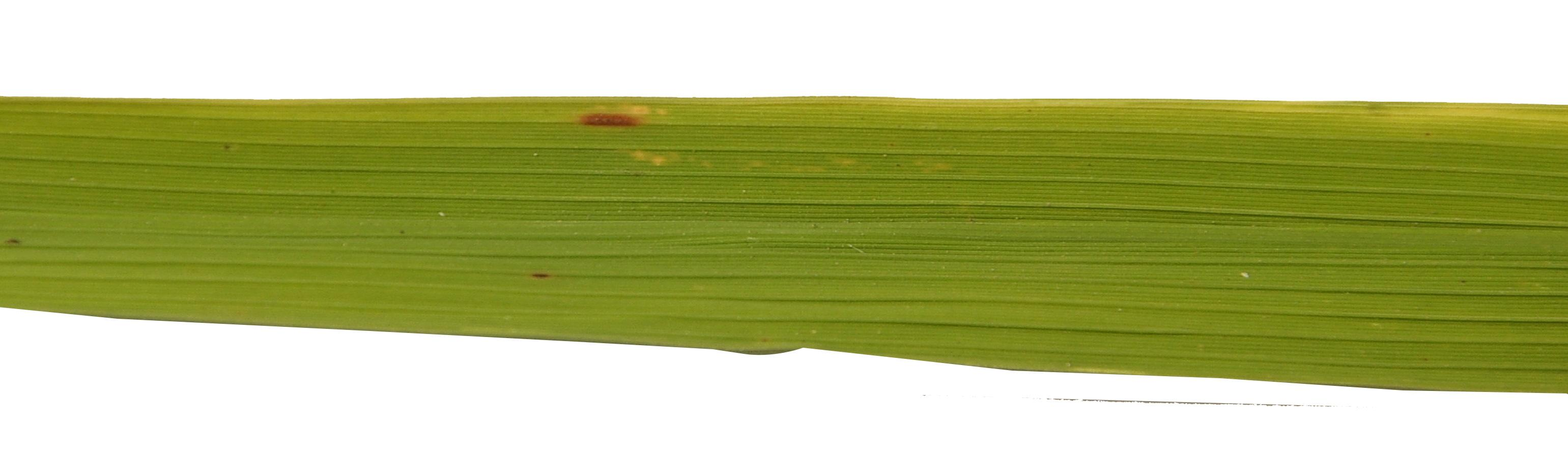Brown spot: (558, 98, 662, 141)
